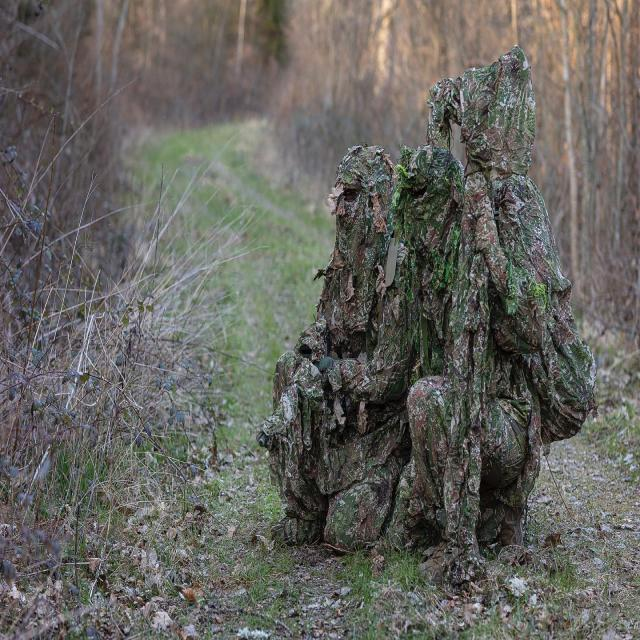Camouflage: (388, 46, 599, 587), (255, 144, 404, 546)
